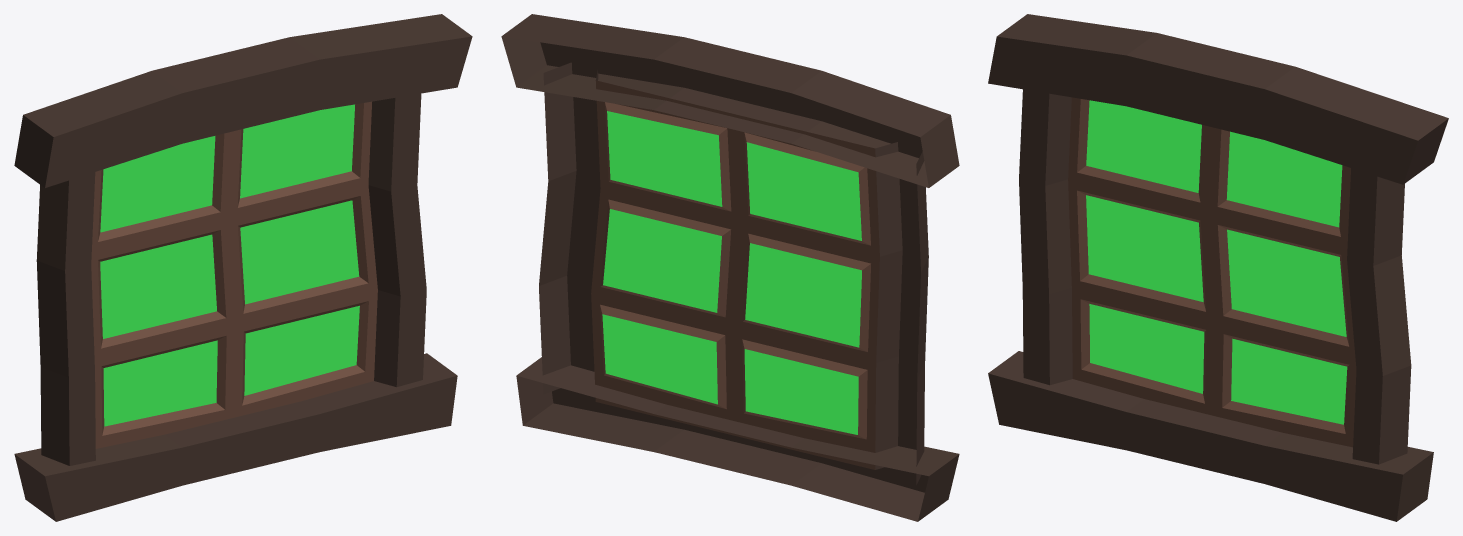
File: LPHorror_SquareWindow.fbx
The picture shows the model from 3 angles, left to right: view 1: azimuth 30°, elevation 25°; view 2: azimuth 150°, elevation 25°; view 3: azimuth 330°, elevation 25°; orthographic projection.
Parts seen in each view (by area): view 1: SquareWindow; view 2: SquareWindow; view 3: SquareWindow.
Boxes of the visible parts, box(x1,y1,x2,y2) form: SquareWindow: box(14, 14, 472, 521); SquareWindow: box(501, 14, 959, 521); SquareWindow: box(988, 14, 1448, 521).
Size of the model in its own units: 236 by 210 by 29.23.
